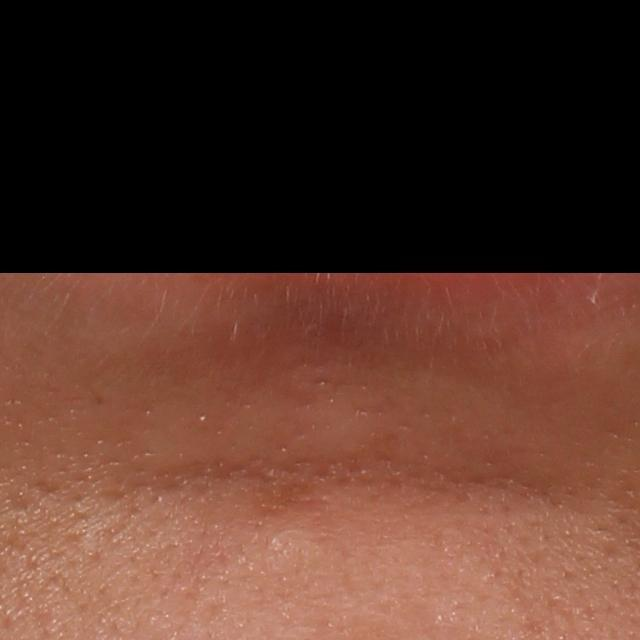hypertrophic_scar: (274, 385, 401, 477)
